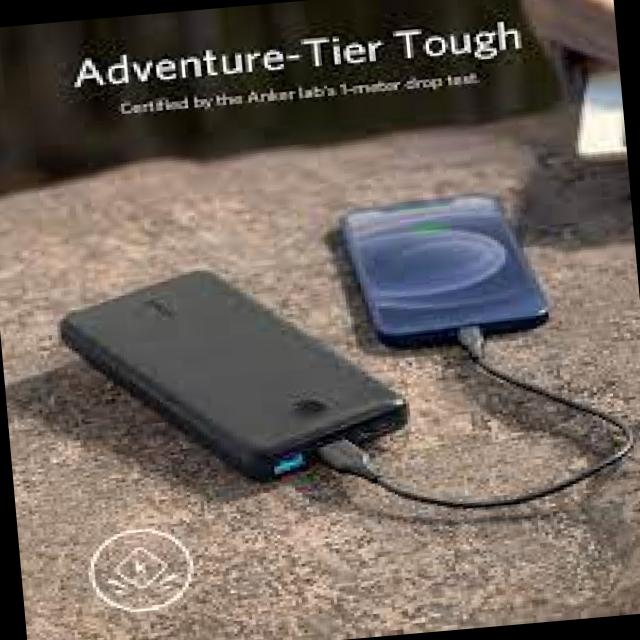power_bank: (52, 252, 414, 499)
